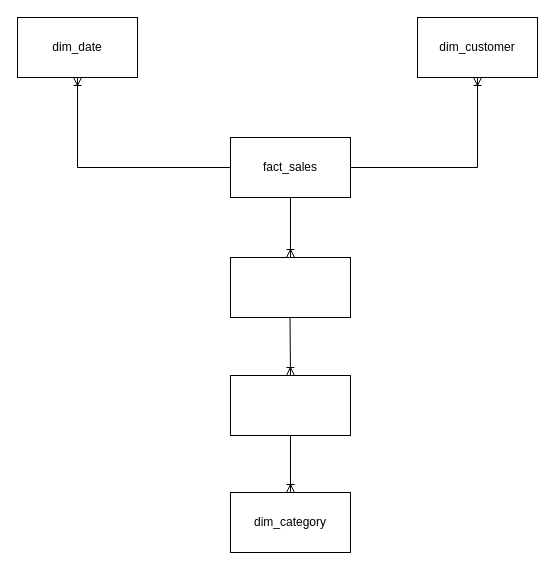
Image size: 555x570. Some labels were removed from this diagram. Each missing label, with the box of its shape:
dim_pizza: (230, 256, 350, 318)
dim_pizza_type: (230, 374, 350, 436)
